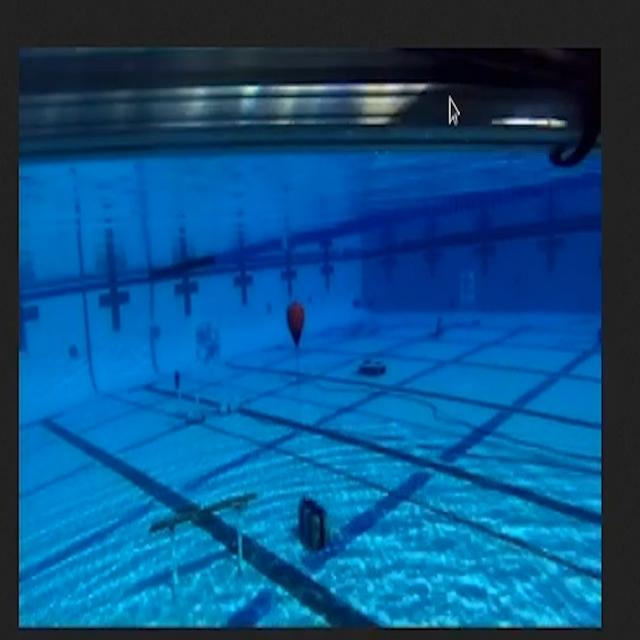Buoy: (285, 293, 309, 351)
